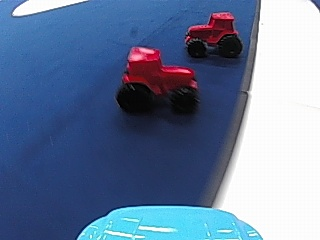Tracktor: (115, 43, 203, 115), (185, 9, 243, 58)
